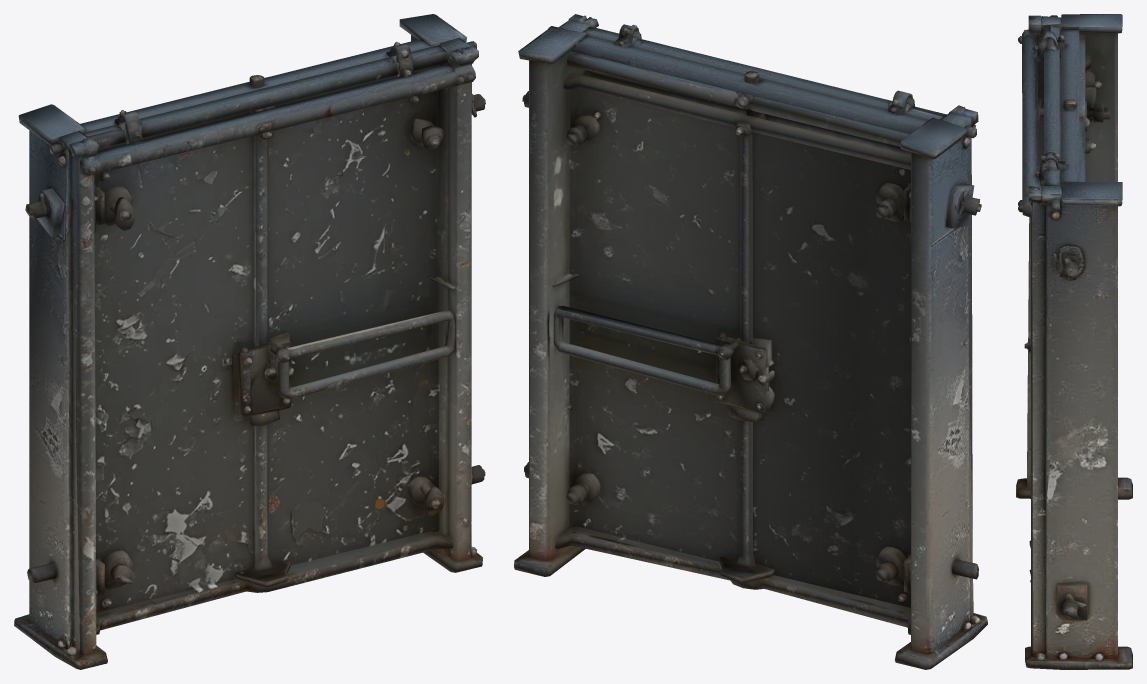
File: prop_door.glb
3 views of the same model, side by side, from view 1: azimuth 30°, elevation 25°; view 2: azimuth 150°, elevation 25°; view 3: azimuth 270°, elevation 25° (orthographic). The views are drawn at different scales.
Visible parts, largest first — view 1: tripo_node_ed35955c-aa6c-4be3-aaad-0c278645fca6; view 2: tripo_node_ed35955c-aa6c-4be3-aaad-0c278645fca6; view 3: tripo_node_ed35955c-aa6c-4be3-aaad-0c278645fca6.
Boxes of the visible parts, box(x1,y1,x2,y2) form: tripo_node_ed35955c-aa6c-4be3-aaad-0c278645fca6: box(14, 14, 485, 669); tripo_node_ed35955c-aa6c-4be3-aaad-0c278645fca6: box(514, 14, 987, 669); tripo_node_ed35955c-aa6c-4be3-aaad-0c278645fca6: box(1016, 14, 1132, 669).
Size of the model in its own units: 2.04 by 2.25 by 0.4936.
Materials: 1 (1 with a texture image).
